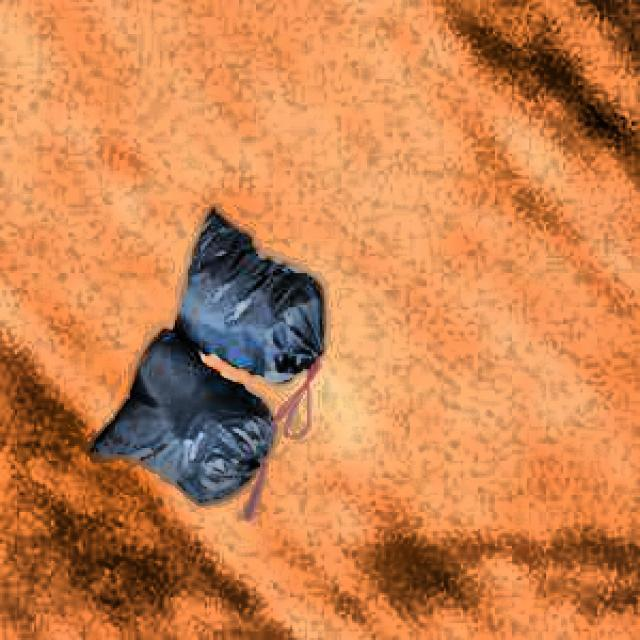Trashbag: (168, 201, 338, 382), (94, 350, 274, 516)
